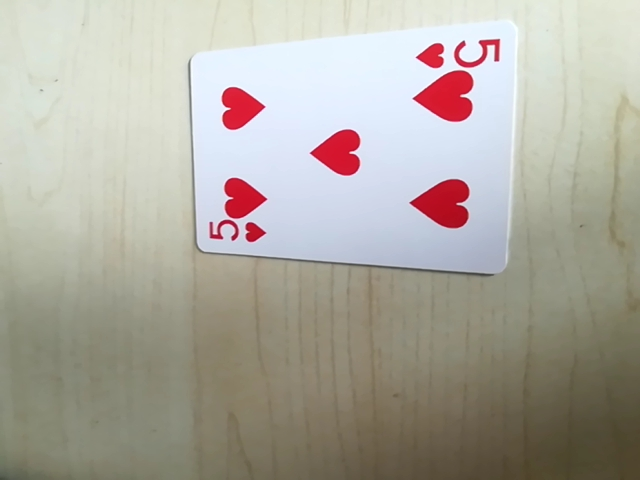hx 5: (413, 27, 504, 72), (203, 217, 271, 253)
